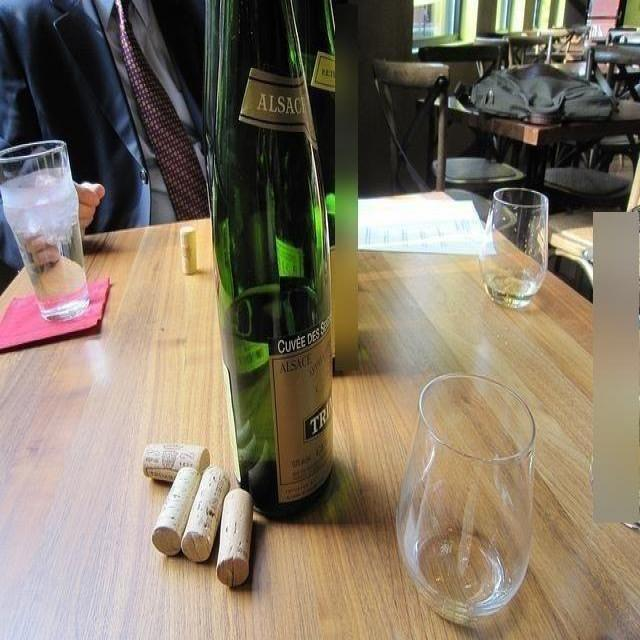bottle-glass: (202, 1, 335, 522)
glass-normal: (394, 374, 537, 622), (1, 137, 90, 323), (478, 188, 549, 309)
